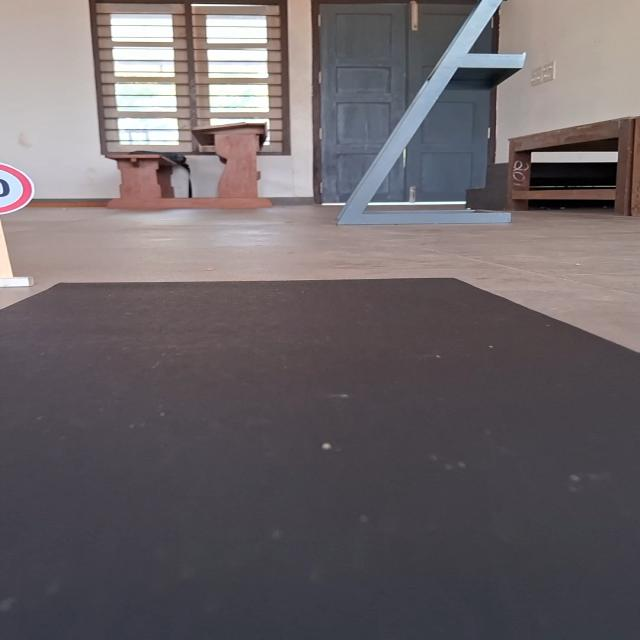Reject: (0, 159, 36, 219)
